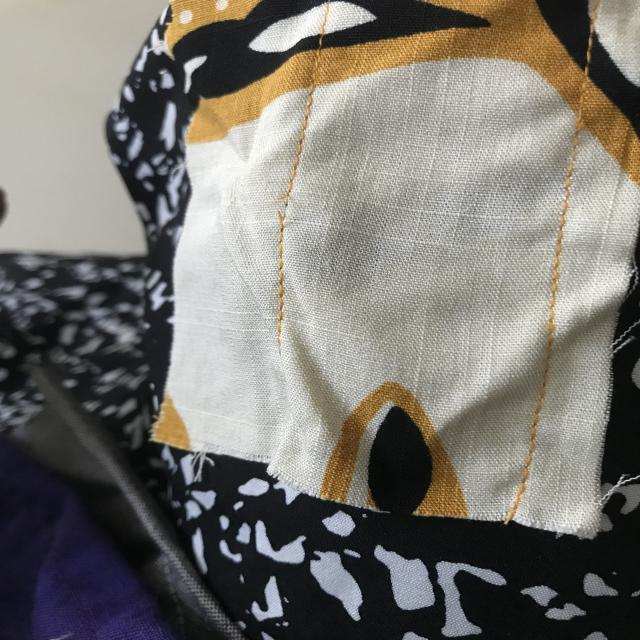broken: (265, 183, 304, 234)
